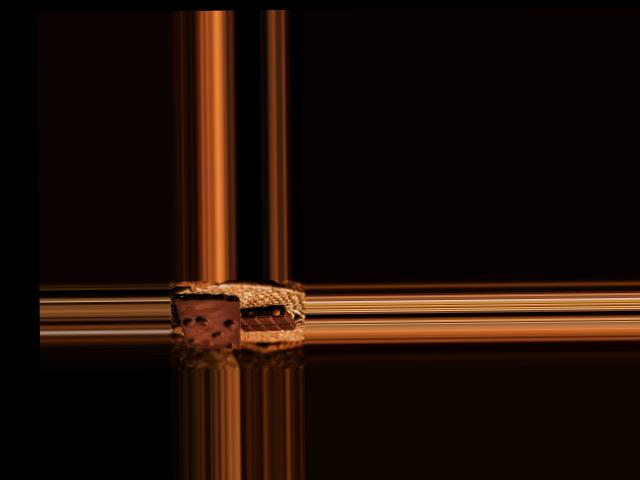chocolate: (174, 294, 245, 351)
